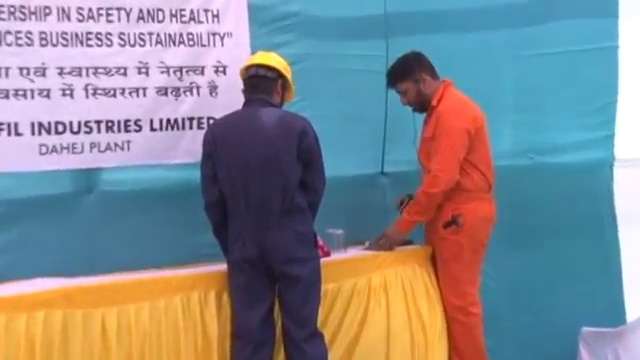helmet: (238, 49, 295, 100)
helmet_off: (382, 50, 449, 117)
helmet_on: (236, 49, 295, 112)
person: (196, 48, 329, 360), (374, 48, 498, 360)
